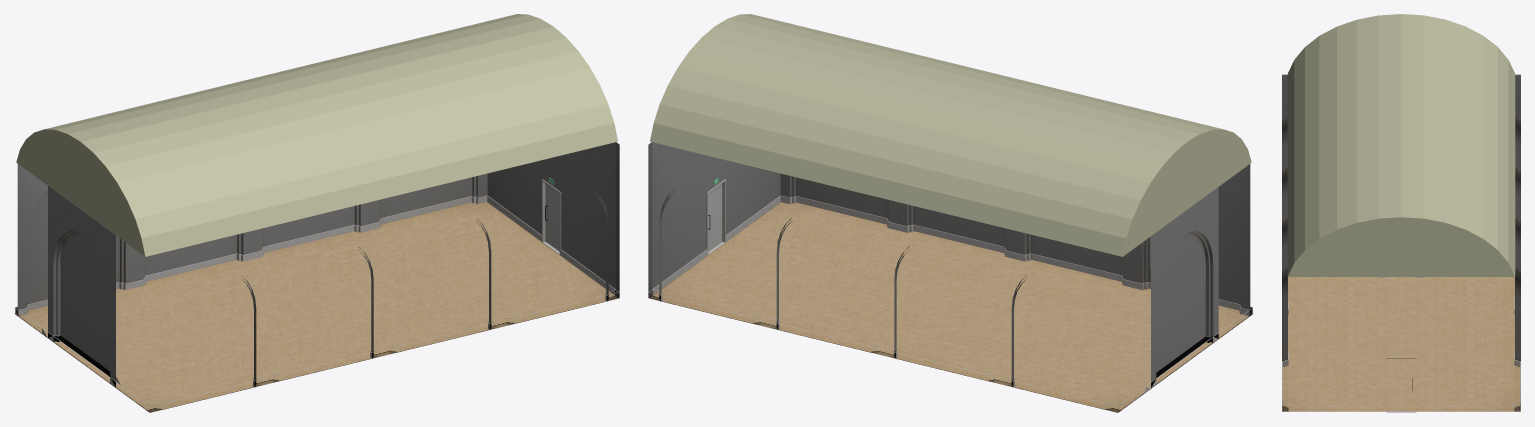
File: salaEmiciclo3.glb
3 renders of one model, left to right at view 1: azimuth 30°, elevation 25°; view 2: azimuth 150°, elevation 25°; view 3: azimuth 270°, elevation 25°, orthographic. The views are drawn at different scales.
Visible parts, largest first — view 1: VR Gallery, Cilindro; view 2: VR Gallery, Cilindro; view 3: Cilindro, VR Gallery.
Boxes of the visible parts, x1=… form: VR Gallery: x1=14, y1=142, x2=619, y2=412; Cilindro: x1=16, y1=14, x2=617, y2=256; VR Gallery: x1=648, y1=142, x2=1253, y2=412; Cilindro: x1=650, y1=14, x2=1251, y2=256; Cilindro: x1=1287, y1=14, x2=1515, y2=277; VR Gallery: x1=1282, y1=74, x2=1520, y2=412.
Size of the model in its own units: 16.14 by 7.21 by 8.
2 materials, 1 textured.
